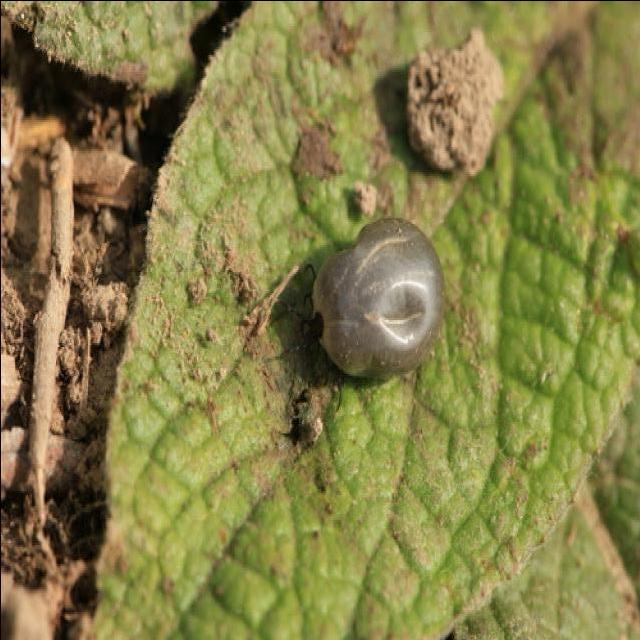Ixodes Ricinus-F-Fed: (292, 217, 448, 415)
